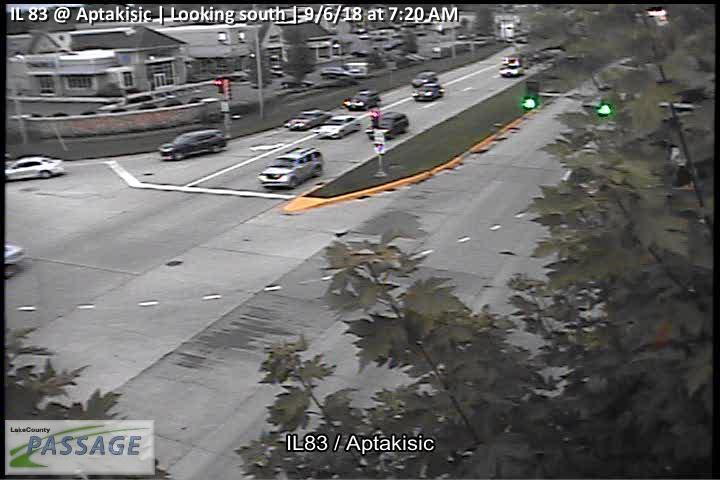SUV: (257, 146, 324, 190), (157, 128, 228, 162), (364, 112, 409, 141), (343, 91, 381, 112)
Sedan: (5, 155, 66, 180), (316, 114, 362, 141), (282, 109, 330, 131), (412, 84, 446, 103), (412, 70, 438, 88)
